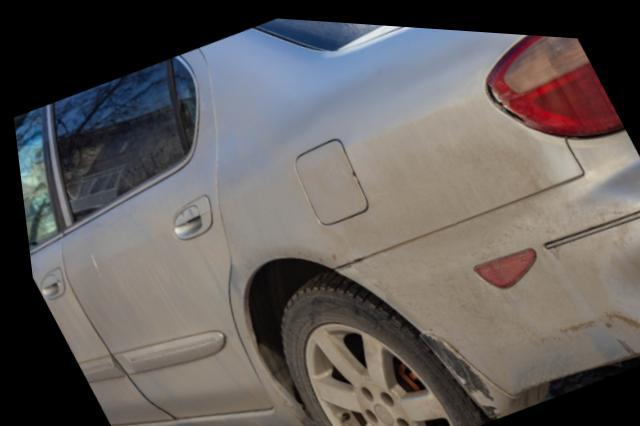dent: (598, 239, 640, 316)
lamp broken: (484, 28, 624, 129)
scratch: (415, 329, 493, 413)
